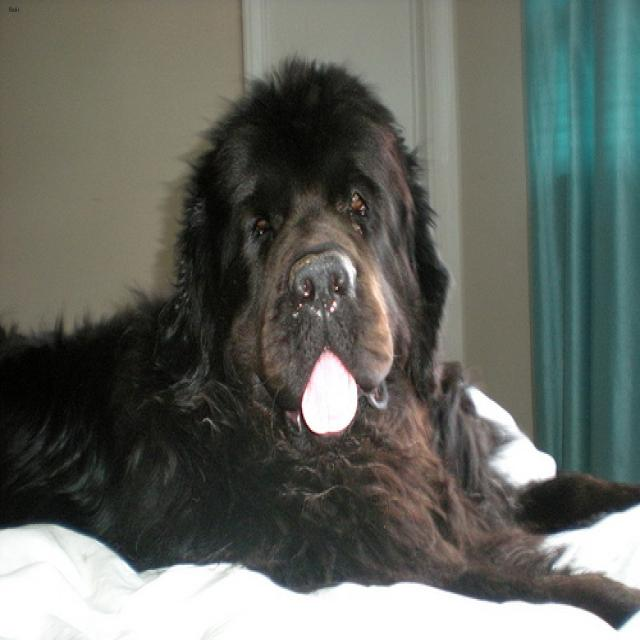dog-newfoundland: (1, 48, 637, 637)
